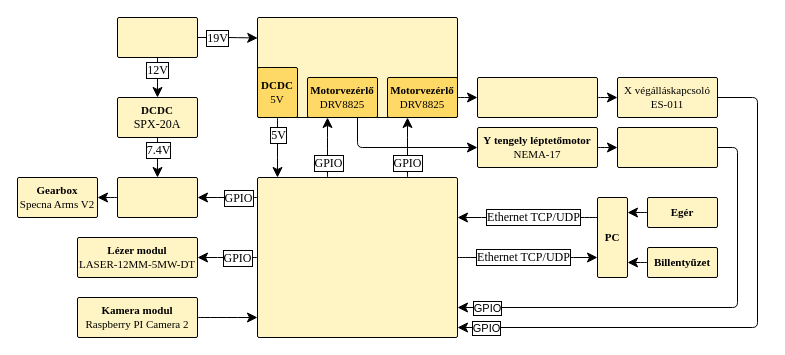
Some shapes in this 785 by 355 pixel diagram are drawn without their labels. Here are the shapes that lost their labels. From the top down, the box of each, then its label:
(116, 16, 198, 58): Hálózat
(256, 16, 458, 118): Waveshare Stepper Motor HAT
(476, 76, 598, 118): X tengely léptetőmotor NEMA-17
(616, 126, 718, 168): Y végálláskapcsoló ES-011
(116, 176, 198, 218): Relé RM50-3011-85
(256, 176, 458, 338): Mikrokontroller Raspberry PI 4B
